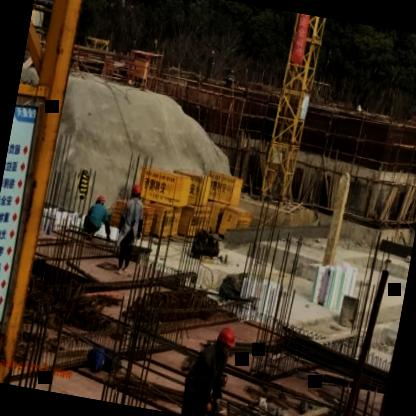helmet: (214, 324, 238, 356), (129, 178, 143, 200), (93, 193, 107, 210)
